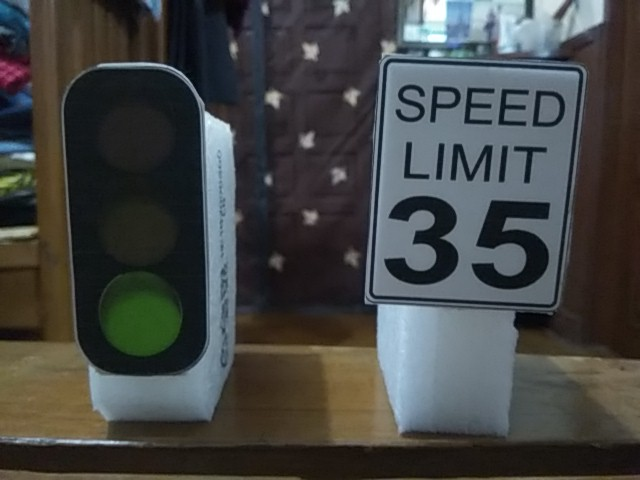Green Traffic Light: (61, 62, 209, 378)
Speed Limit 35: (368, 55, 588, 313)
